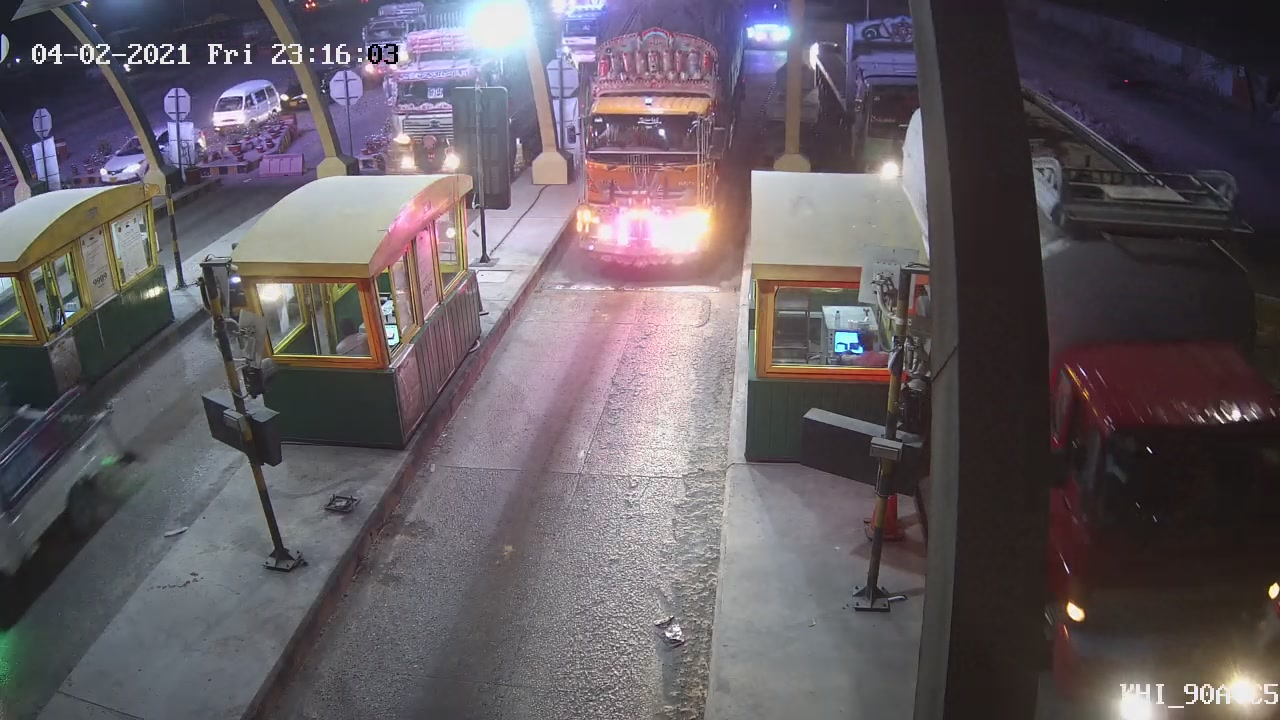F5: (555, 28, 750, 278)
